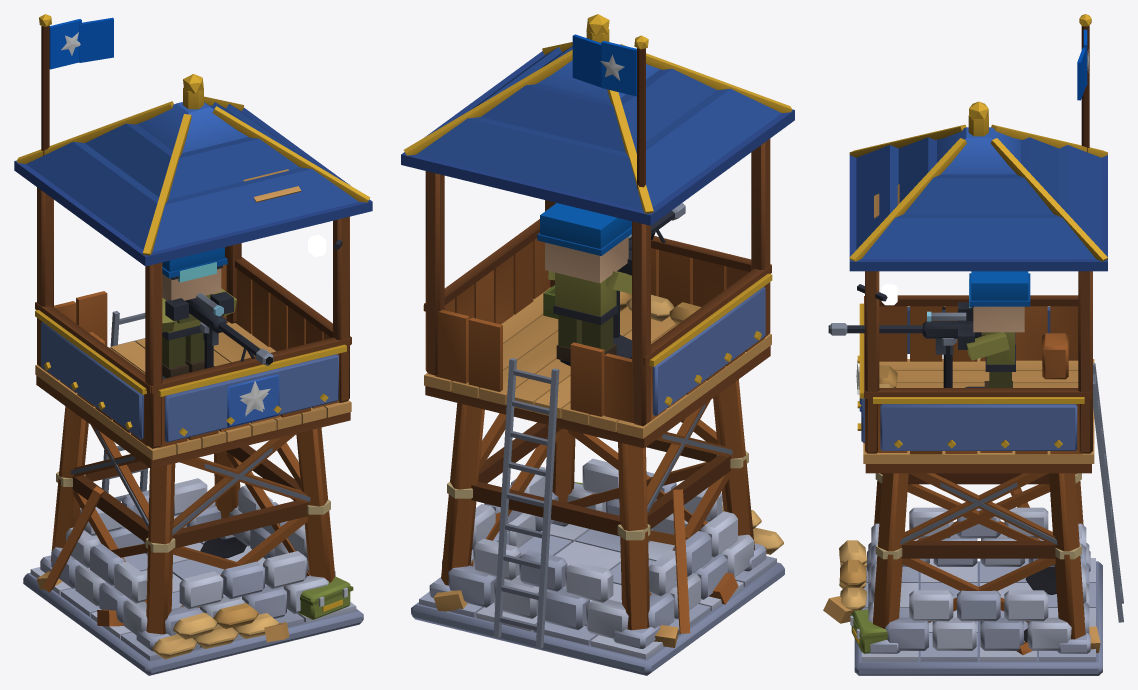
Rendered from t_watch.glb.
3 views of the same model, side by side, from view 1: azimuth 30°, elevation 25°; view 2: azimuth 150°, elevation 25°; view 3: azimuth 270°, elevation 25° (orthographic). The views are drawn at different scales.
Parts seen in each view (by area): view 1: base, lv7_roof, lv4_stone, lv7_armor, lvmax3_wood, head, sway_flag, pitch, dmg2_base, dmg1_base, lv7_ladder; view 2: base, lv7_roof, lv4_stone, head, lvmax3_wood, lv7_armor, lv7_ladder, sway_flag, dmg2_base; view 3: base, lv7_roof, lv4_stone, lv7_armor, lvmax3_wood, head, pitch, lv7_ladder, dmg2_base, sway_flag.
Boxes of the visible parts, <box> form: base: <box>23,14,363,675</box>; lv7_roof: <box>14,74,372,266</box>; lv4_stone: <box>51,374,335,635</box>; lv7_armor: <box>35,310,346,442</box>; lvmax3_wood: <box>56,425,330,607</box>; head: <box>162,247,236,379</box>; sway_flag: <box>49,17,113,69</box>; pitch: <box>185,293,273,365</box>; dmg2_base: <box>36,486,289,642</box>; dmg1_base: <box>97,537,246,626</box>; lv7_ladder: <box>101,311,147,501</box>; base: <box>411,35,784,675</box>; lv7_roof: <box>401,14,794,225</box>; lv4_stone: <box>442,404,753,638</box>; head: <box>537,203,631,366</box>; lvmax3_wood: <box>447,257,748,595</box>; lv7_armor: <box>423,273,772,416</box>; lv7_ladder: <box>493,358,559,648</box>; sway_flag: <box>572,34,636,96</box>; dmg2_base: <box>433,489,690,647</box>; base: <box>839,14,1102,675</box>; lv7_roof: <box>849,101,1107,271</box>; lv4_stone: <box>858,367,1089,650</box>; lv7_armor: <box>856,303,1084,450</box>; lvmax3_wood: <box>875,473,1081,622</box>; head: <box>941,271,1030,387</box>; pitch: <box>828,311,981,354</box>; lv7_ladder: <box>1093,363,1123,622</box>; dmg2_base: <box>823,306,1100,652</box>; sway_flag: <box>1077,29,1088,100</box>.
Bounding box in the file's own units: 3.6 × 8.55 × 4.12.
